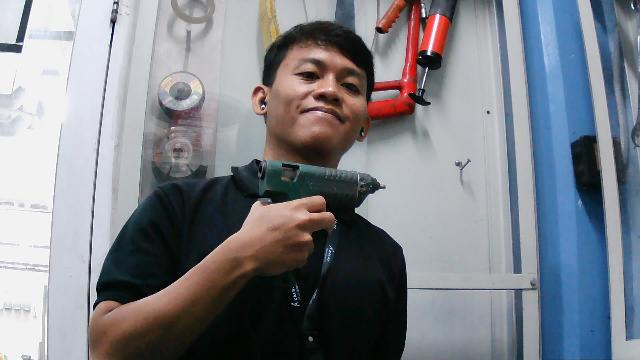gun_lem: (245, 150, 397, 257)
